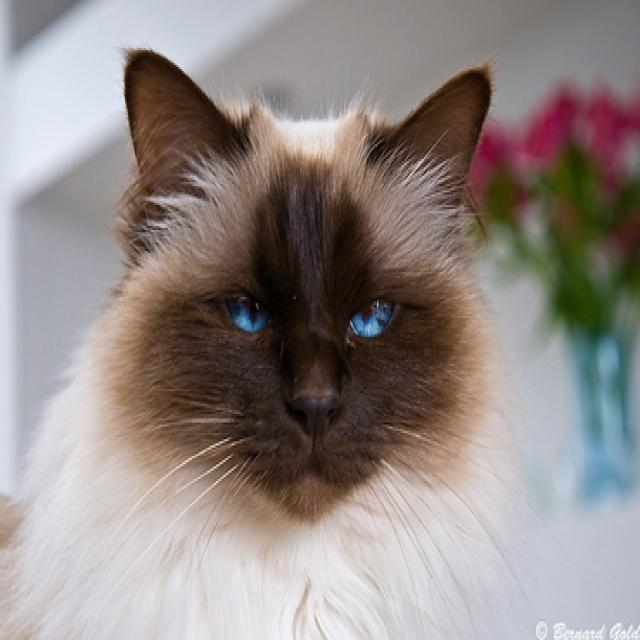Birman: (8, 39, 530, 640)
